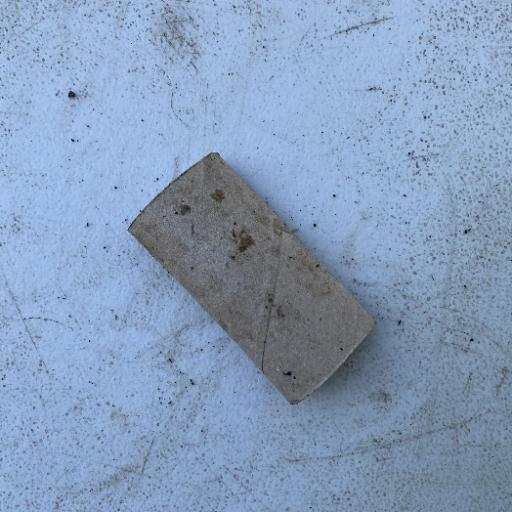Cardboard: (125, 150, 377, 406)
